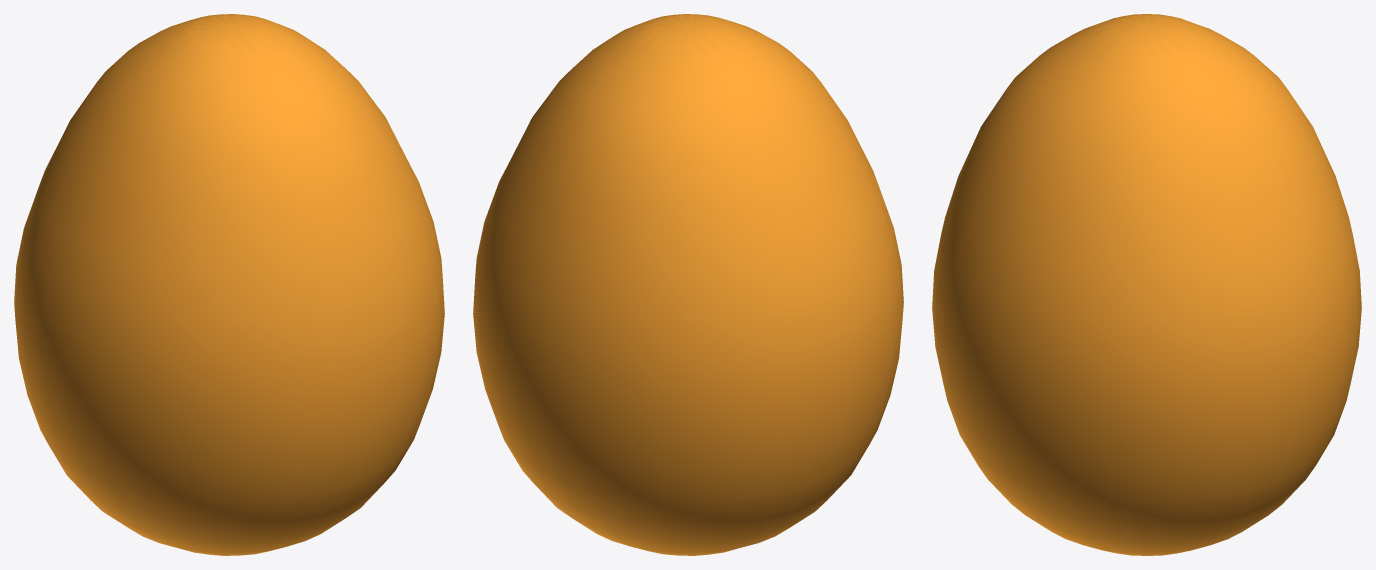
File: ovo.fbx
3 renders of one model, left to right at view 1: azimuth 30°, elevation 25°; view 2: azimuth 150°, elevation 25°; view 3: azimuth 270°, elevation 25°, orthographic.
Parts seen in each view (by area): view 1: Sphere.001; view 2: Sphere.001; view 3: Sphere.001.
Boxes of the visible parts, x1,y1,x2,y2 form: Sphere.001: (14, 14, 444, 555); Sphere.001: (473, 14, 903, 555); Sphere.001: (932, 14, 1361, 555).
Size of the model in its own units: 8.86 by 11.51 by 8.8.
